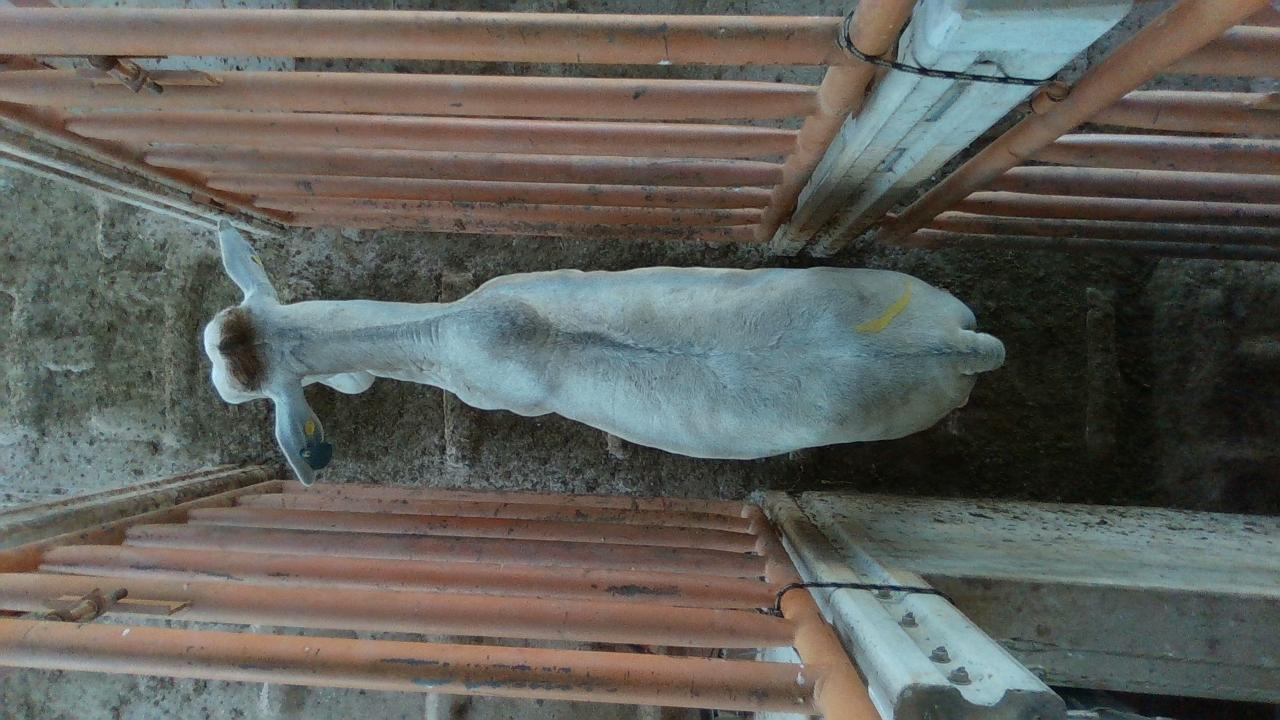cattle: (201, 219, 1006, 487)
